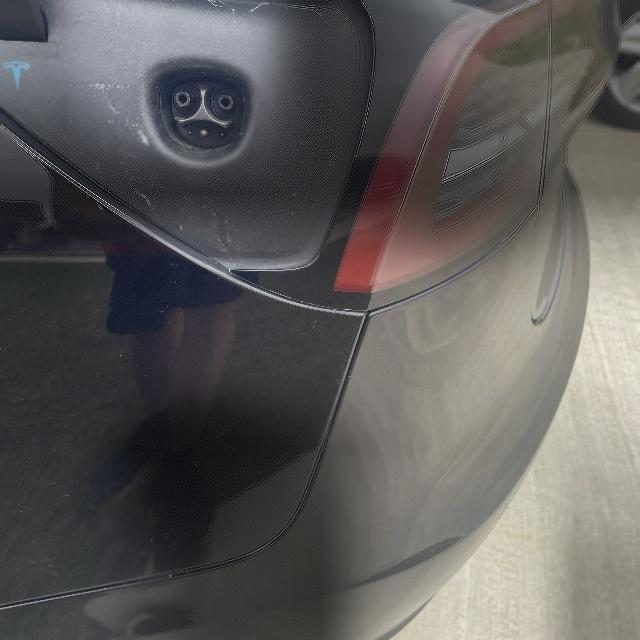Tesla Model-S-: (134, 41, 266, 188)
